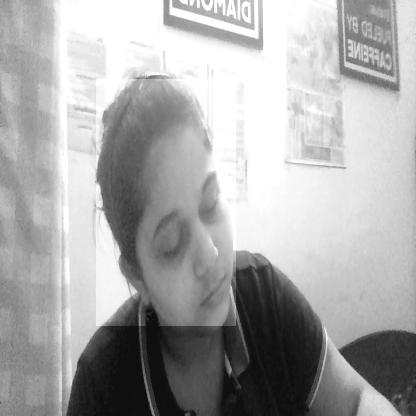Distracted: (96, 79, 236, 326)
